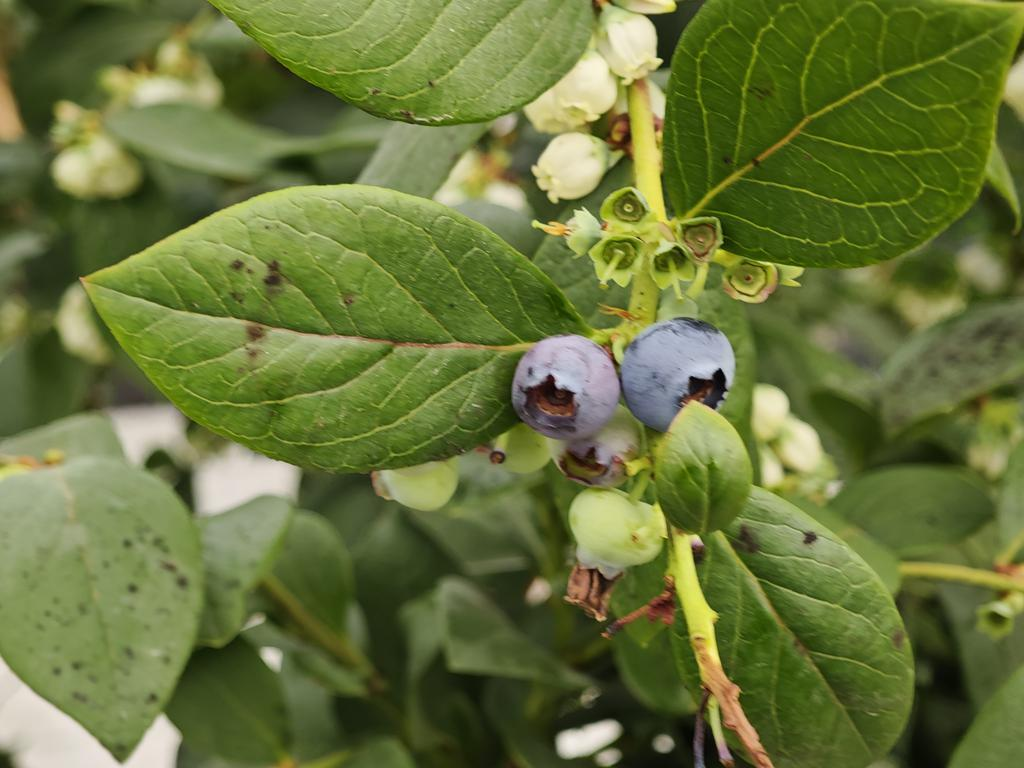RipeBlueBerry: (618, 313, 742, 429), (506, 333, 620, 439)
UnripeBlueBerry: (562, 483, 672, 575)
